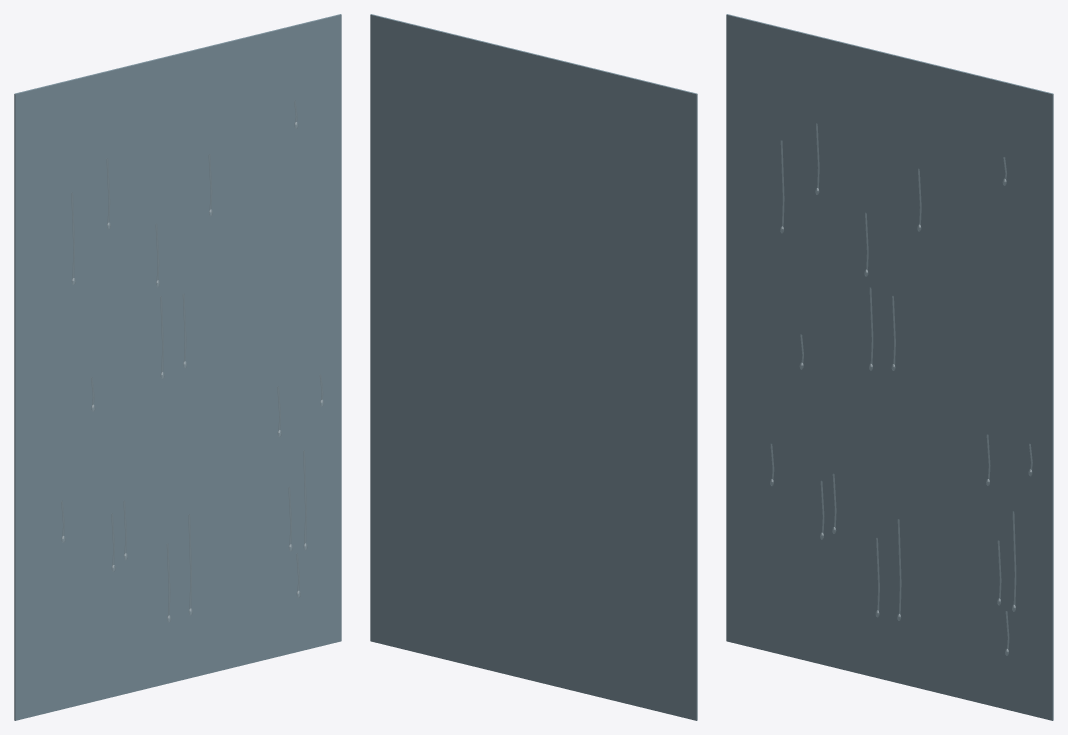
The model's file is RainStreakPaneNarrow.glb.
3 views of the same model, side by side, from view 1: azimuth 30°, elevation 25°; view 2: azimuth 150°, elevation 25°; view 3: azimuth 330°, elevation 25° (orthographic).
Parts seen in each view (by area): view 1: ClearRainSheet; view 2: ClearRainSheet; view 3: ClearRainSheet.
Part boxes in pixels (bbox=[...]): ClearRainSheet: bbox=[14, 14, 341, 720]; ClearRainSheet: bbox=[370, 14, 697, 720]; ClearRainSheet: bbox=[726, 14, 1053, 720].
Bounding box in the file's own units: 2.4 × 4.4 × 0.038.
